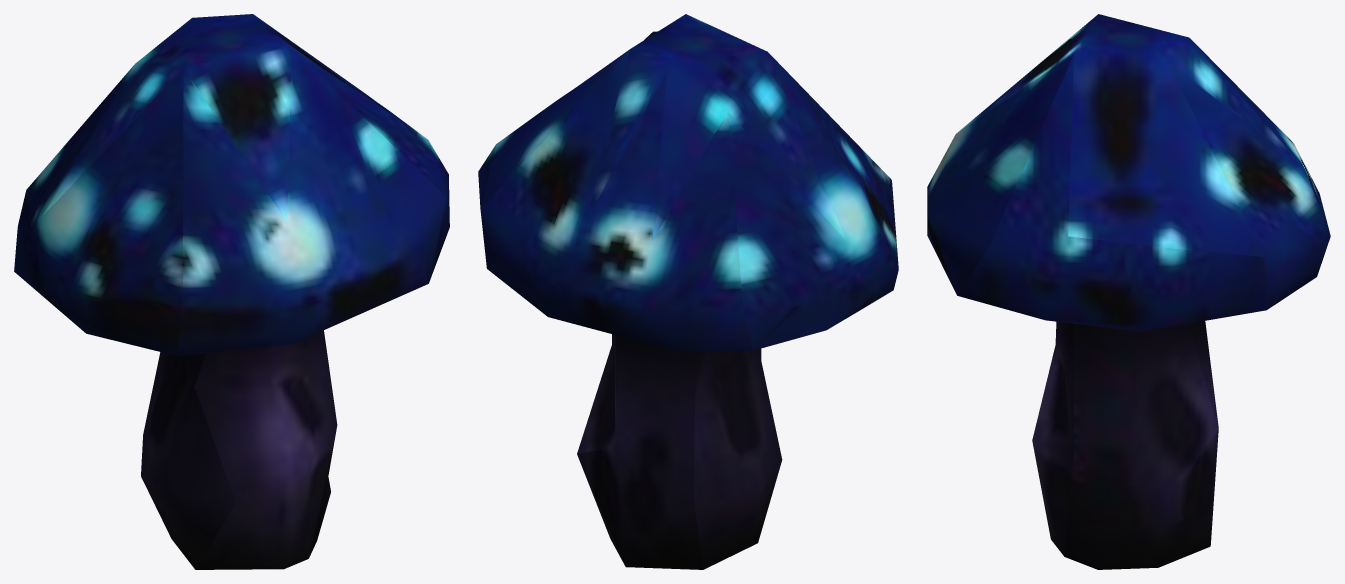
File: b_mycelium_deco_champignon_v2.glb
3 renders of one model, left to right at view 1: azimuth 30°, elevation 25°; view 2: azimuth 150°, elevation 25°; view 3: azimuth 270°, elevation 25°, orthographic. The views are drawn at different scales.
Parts seen in each view (by area): view 1: geometry_0; view 2: geometry_0; view 3: geometry_0.
Part boxes in pixels (x1,y1,x2,y2): geometry_0: (14, 14, 449, 569); geometry_0: (478, 14, 898, 569); geometry_0: (927, 14, 1330, 569).
Bounding box in the file's own units: 0.78 × 0.9917 × 0.7272.
1 material, 1 textured.
